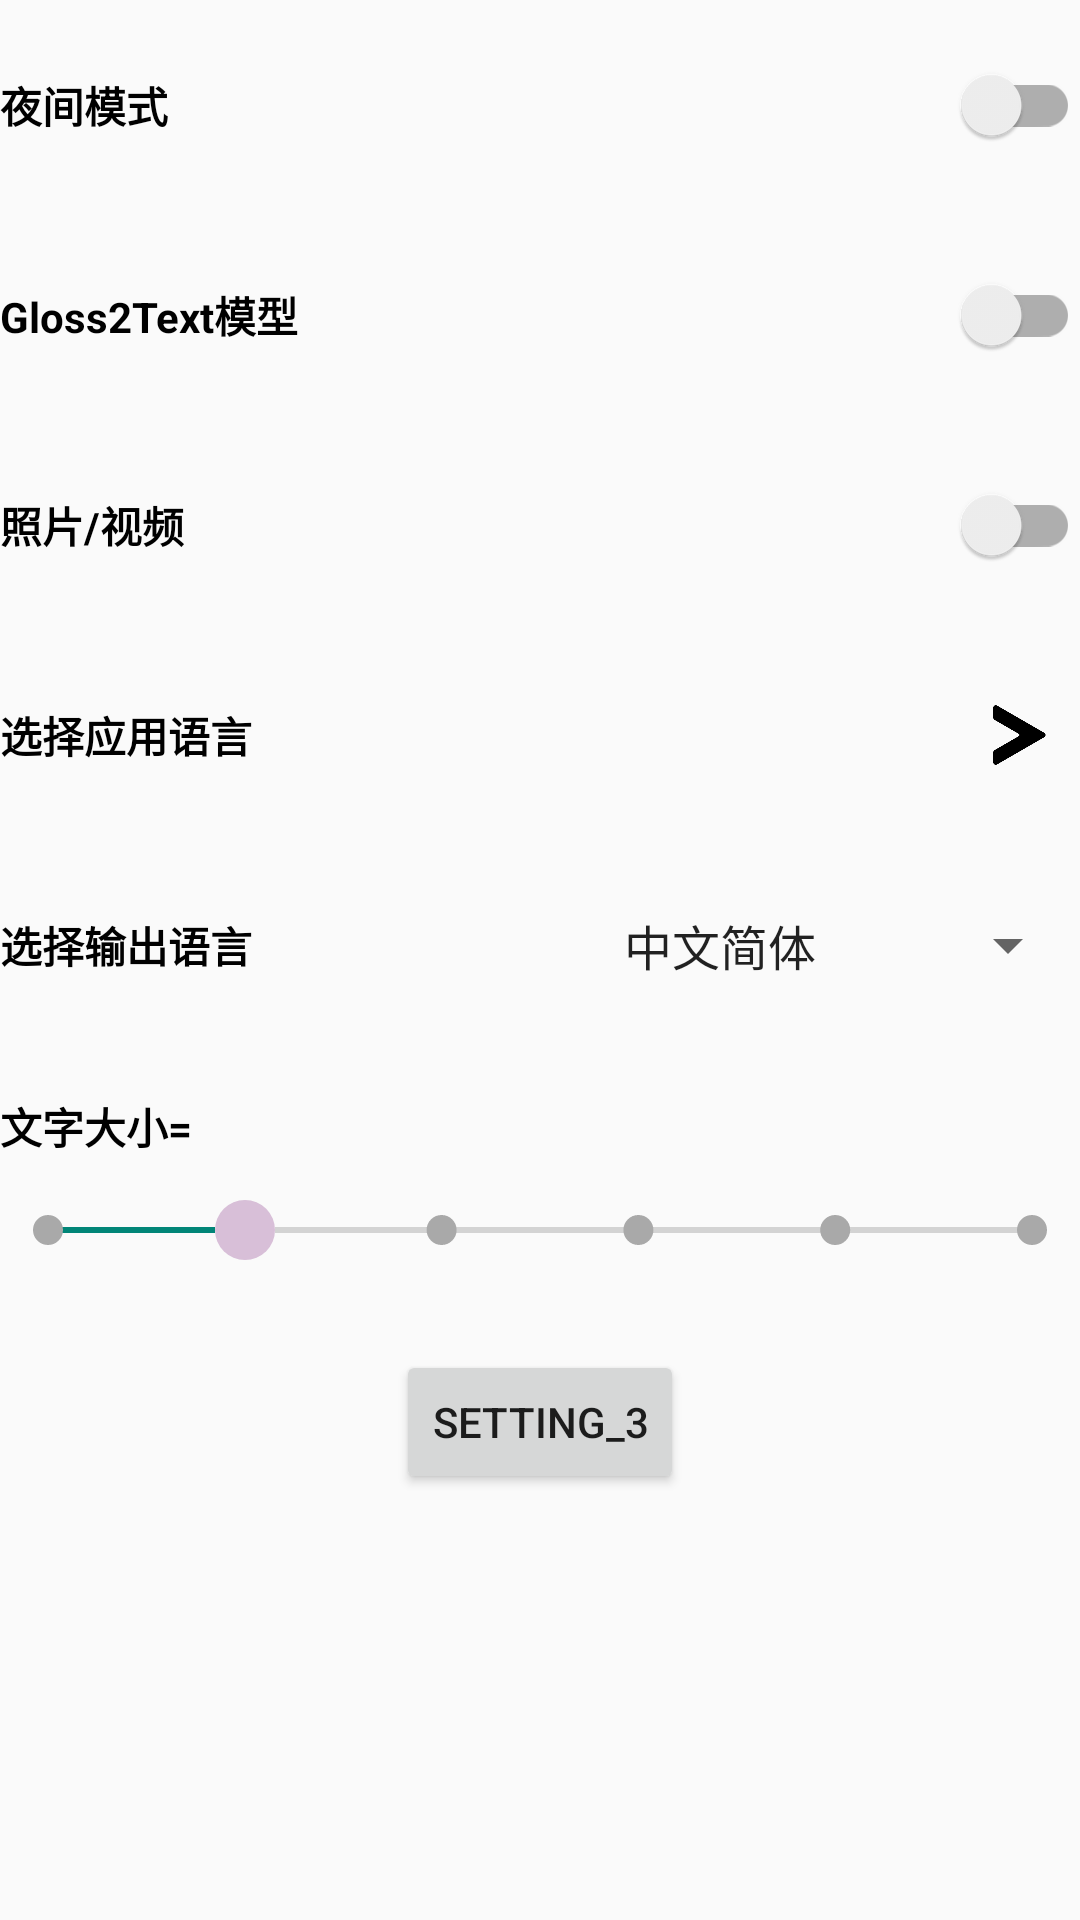

Screen size 1080px x 1920px. Icon name, then its center in pixels as point (x, y):
arrow: point (1019, 735)
